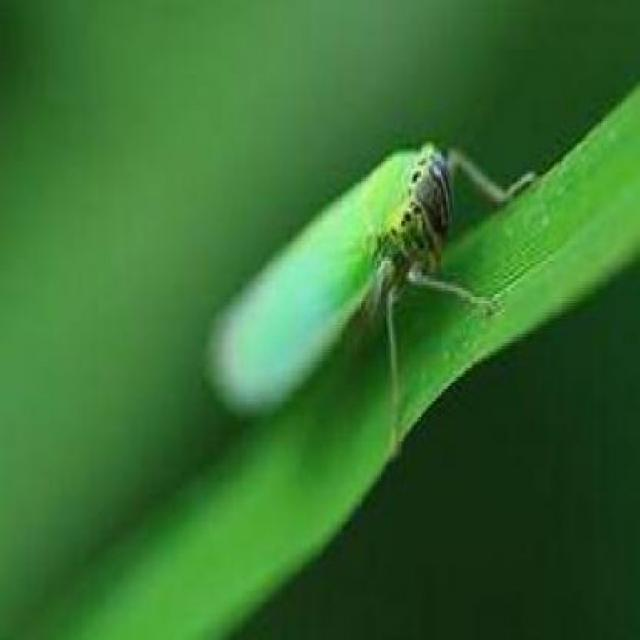green-leafhopper: (212, 145, 476, 429)
